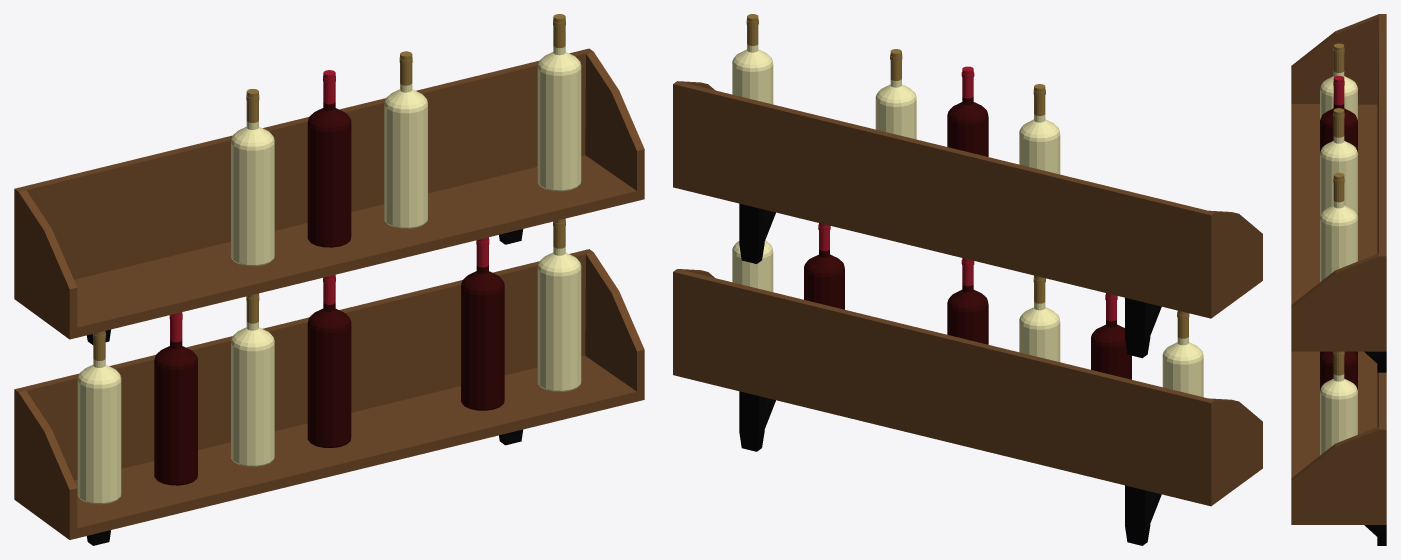
The model's file is Estantes_Llenos.fbx.
3 views of the same model, side by side, from view 1: azimuth 30°, elevation 25°; view 2: azimuth 150°, elevation 25°; view 3: azimuth 270°, elevation 25° (orthographic). The views are drawn at different scales.
Visible parts, largest first — view 1: Estantes_Llenos; view 2: Estantes_Llenos; view 3: Estantes_Llenos.
Part boxes in pixels (<box>): Estantes_Llenos: <box>14,14,644,545</box>; Estantes_Llenos: <box>673,14,1262,545</box>; Estantes_Llenos: <box>1291,14,1386,545</box>.
Size of the model in its own units: 150 by 109 by 25.
